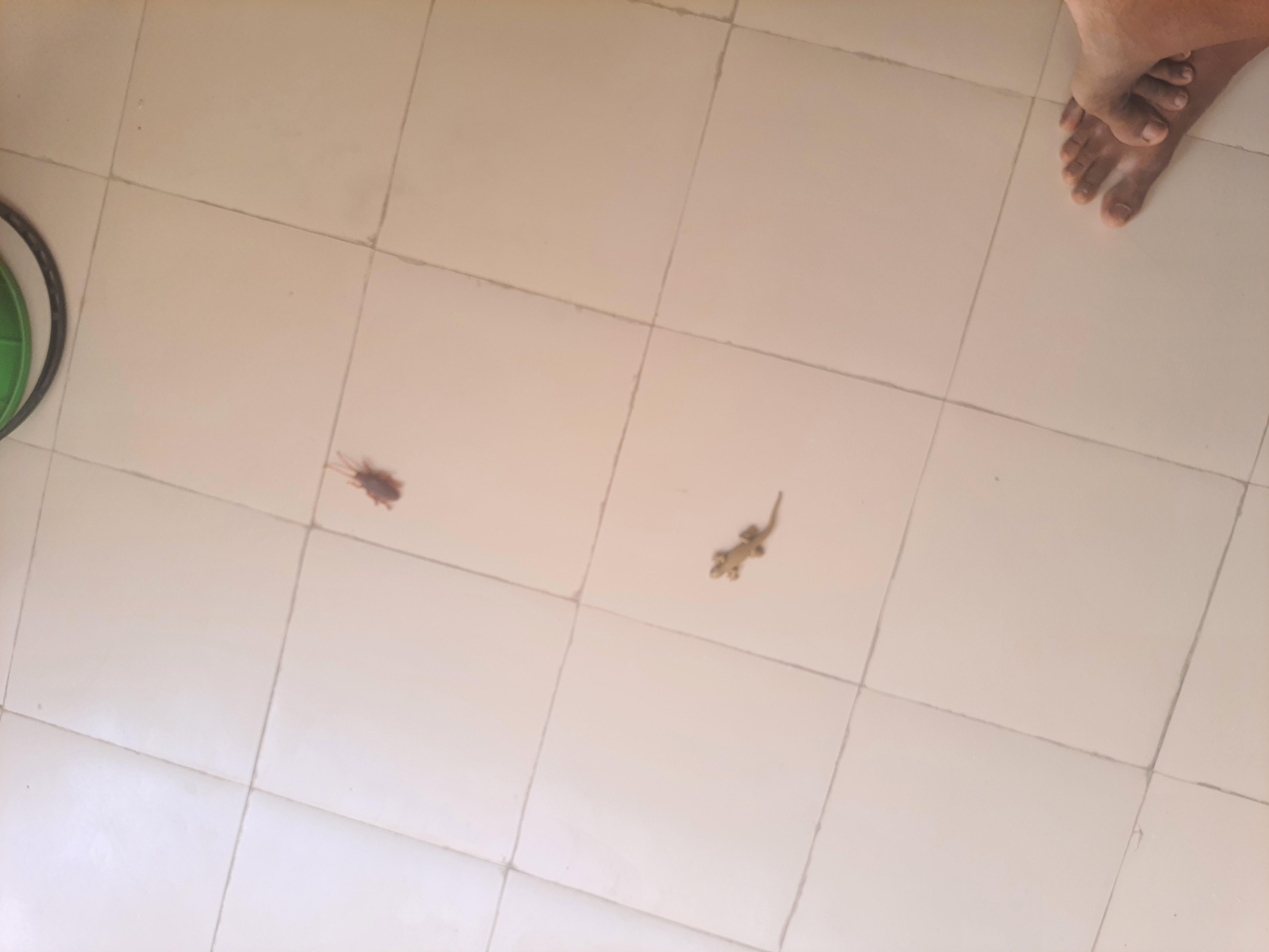cockroach: (557, 240, 684, 304)
lizard: (470, 520, 603, 590)
